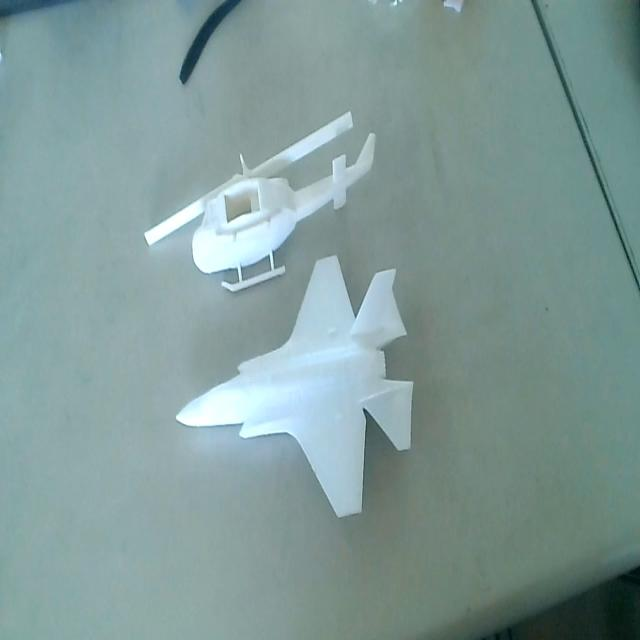Helicopter: (144, 108, 376, 294)
Jet: (172, 254, 418, 527)
